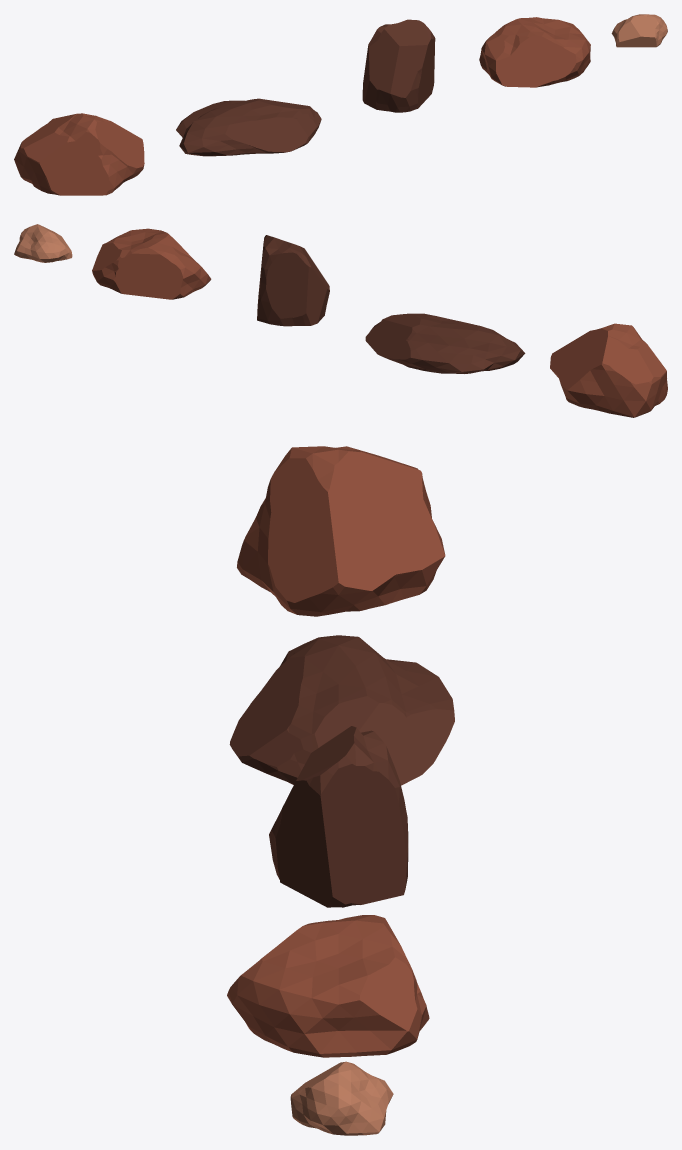
The model's file is MarsRocks.fbx.
3 renders of one model, top to bottom at view 1: azimuth 30°, elevation 25°; view 2: azimuth 150°, elevation 25°; view 3: azimuth 270°, elevation 25°, orthographic. The views are drawn at different scales.
Visible parts, largest first — view 1: Rock boulder, Rock slab, Rock pile, Rock ventifact, Rock pebble; view 2: Rock boulder, Rock slab, Rock pile, Rock ventifact, Rock pebble; view 3: Rock boulder, Rock slab, Rock pile, Rock ventifact, Rock pebble.
Boxes of the visible parts, x1,y1,x2,y2 form: Rock boulder: (14,113,144,195); Rock slab: (176,98,321,156); Rock pile: (479,17,590,87); Rock ventifact: (362,19,435,112); Rock pebble: (611,14,667,47); Rock boulder: (550,323,667,417); Rock slab: (365,313,525,373); Rock pile: (92,228,211,299); Rock ventifact: (257,235,329,326); Rock pebble: (14,224,72,262); Rock boulder: (237,446,445,616); Rock slab: (229,635,454,785); Rock pile: (227,915,429,1057); Rock ventifact: (269,726,408,907); Rock pebble: (290,1061,393,1135).
Bounding box in the file's own units: 6.02 × 0.6696 × 0.9399.
